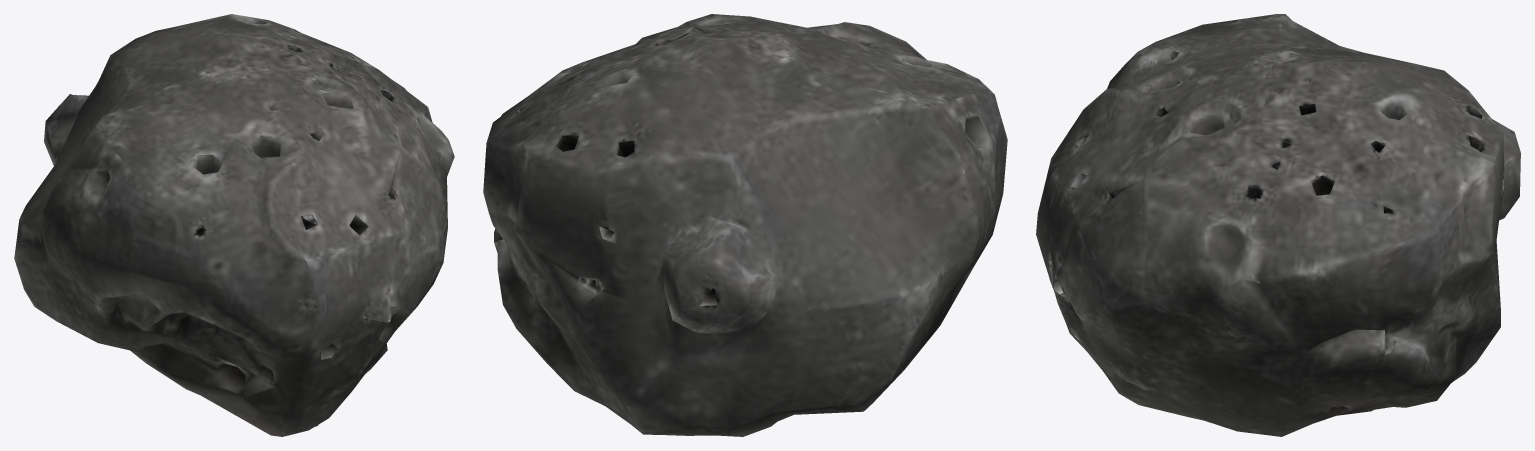
Rendered from rock_1418141231_lod0.glb.
3 renders of one model, left to right at view 1: azimuth 30°, elevation 25°; view 2: azimuth 150°, elevation 25°; view 3: azimuth 270°, elevation 25°, orthographic. The views are drawn at different scales.
Bounding box in the file's own units: 2.41 × 1.95 × 2.38.
1 material, 1 textured.
